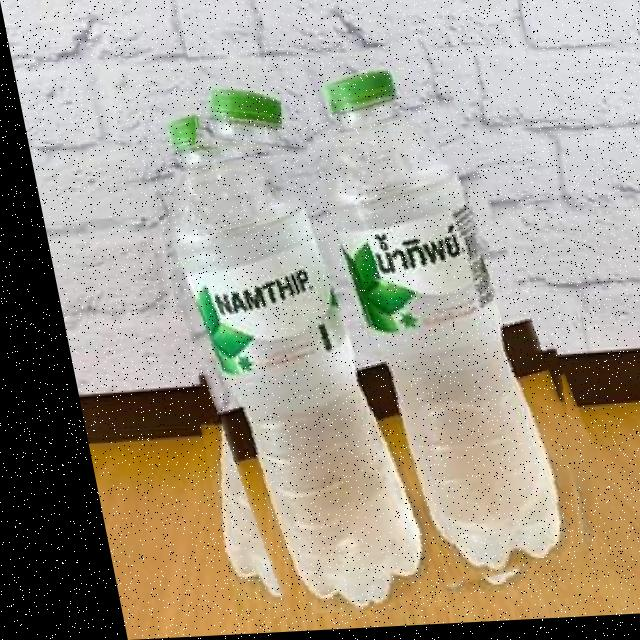litter: (125, 50, 595, 621), (137, 64, 437, 618), (184, 68, 311, 161)
